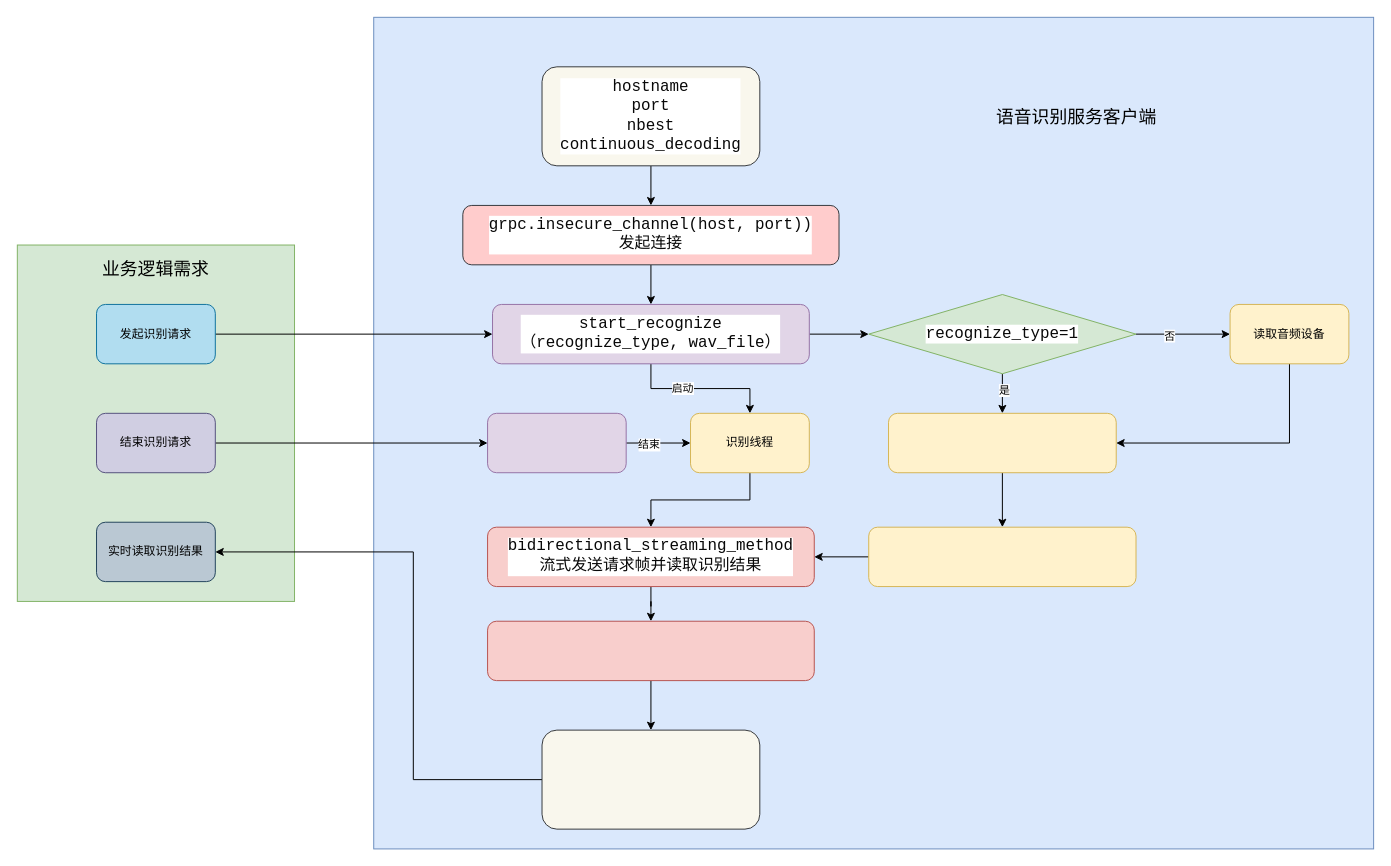
Some shapes in this 1391 by 866 pixel diagram are drawn without their labels. The centre of each missing label's shape, as x and y in pixels:
asr_rt_result asr_seg_result asr_seg_wordieces: the point at 650,779
audio_generator 音频信号帧生成器: the point at 1002,442
end_recognize: the point at 556,442
request_messages_generator 生成请求帧: the point at 1002,556
对识别结果根据时间戳再分割: the point at 650,650
